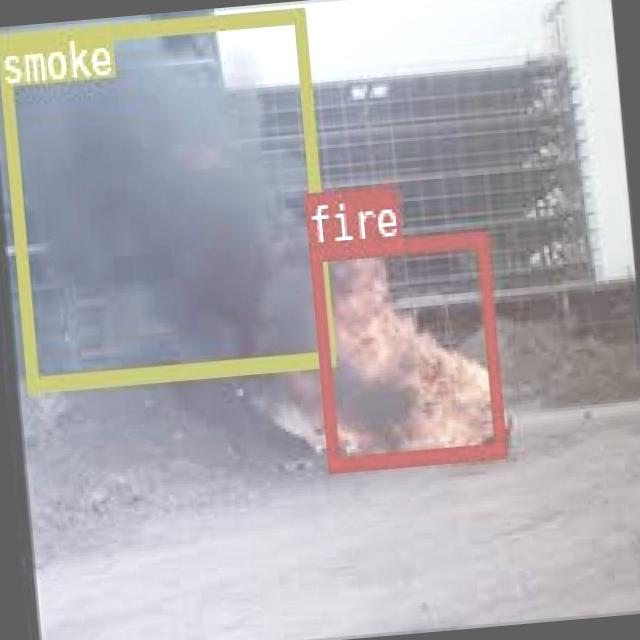fire: (306, 229, 503, 469)
smoke: (0, 6, 331, 387)
